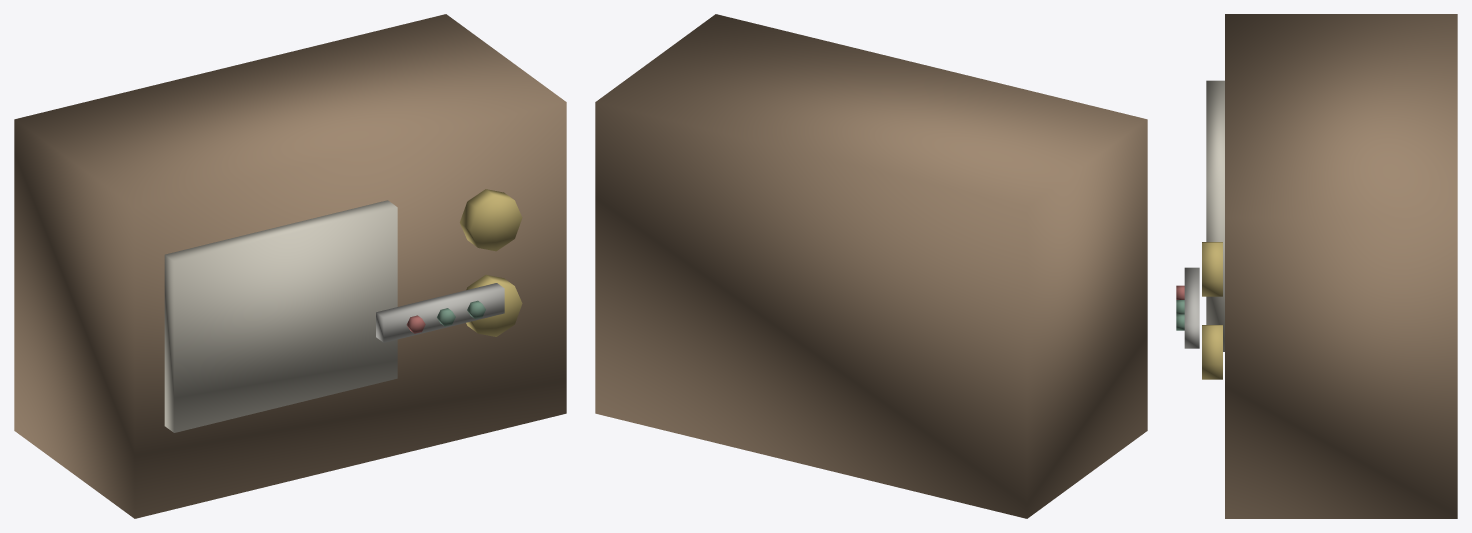
Rendered from tube_radio.glb.
3 views of the same model, side by side, from view 1: azimuth 30°, elevation 25°; view 2: azimuth 150°, elevation 25°; view 3: azimuth 270°, elevation 25° (orthographic). The views are drawn at different scales.
Visible parts, largest first — view 1: world; view 2: world; view 3: world.
Part boxes in pixels (<box>): world: <box>14,14,566,518</box>; world: <box>595,14,1147,518</box>; world: <box>1176,14,1457,518</box>.
Size of the model in its own units: 0.58 by 0.4 by 0.3385.
